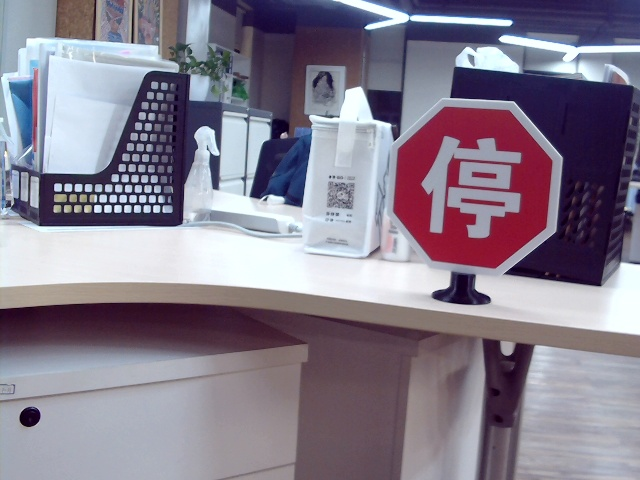stop: (420, 128, 522, 239)
